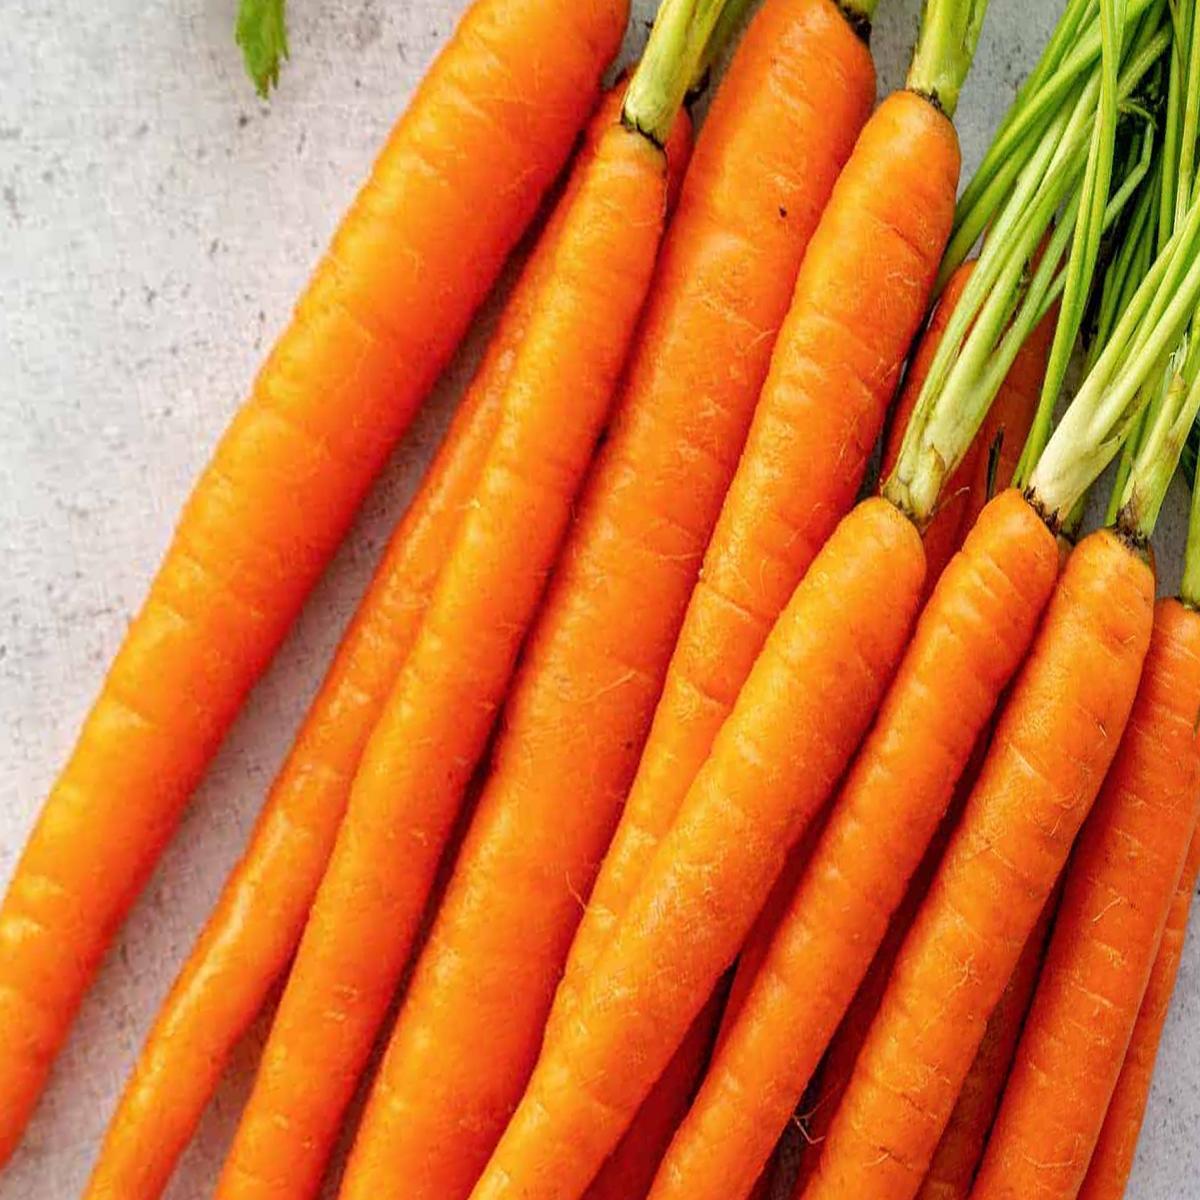carrot: (273, 16, 1200, 1200), (0, 126, 965, 1200), (516, 436, 1200, 1200)
